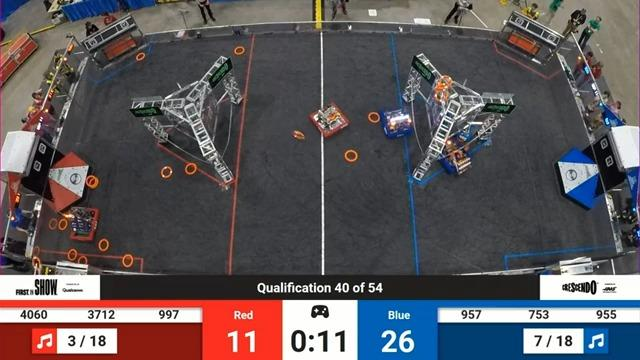robot: (62, 205, 103, 243), (378, 99, 416, 139), (310, 99, 347, 137), (438, 141, 476, 178), (450, 112, 481, 143)
